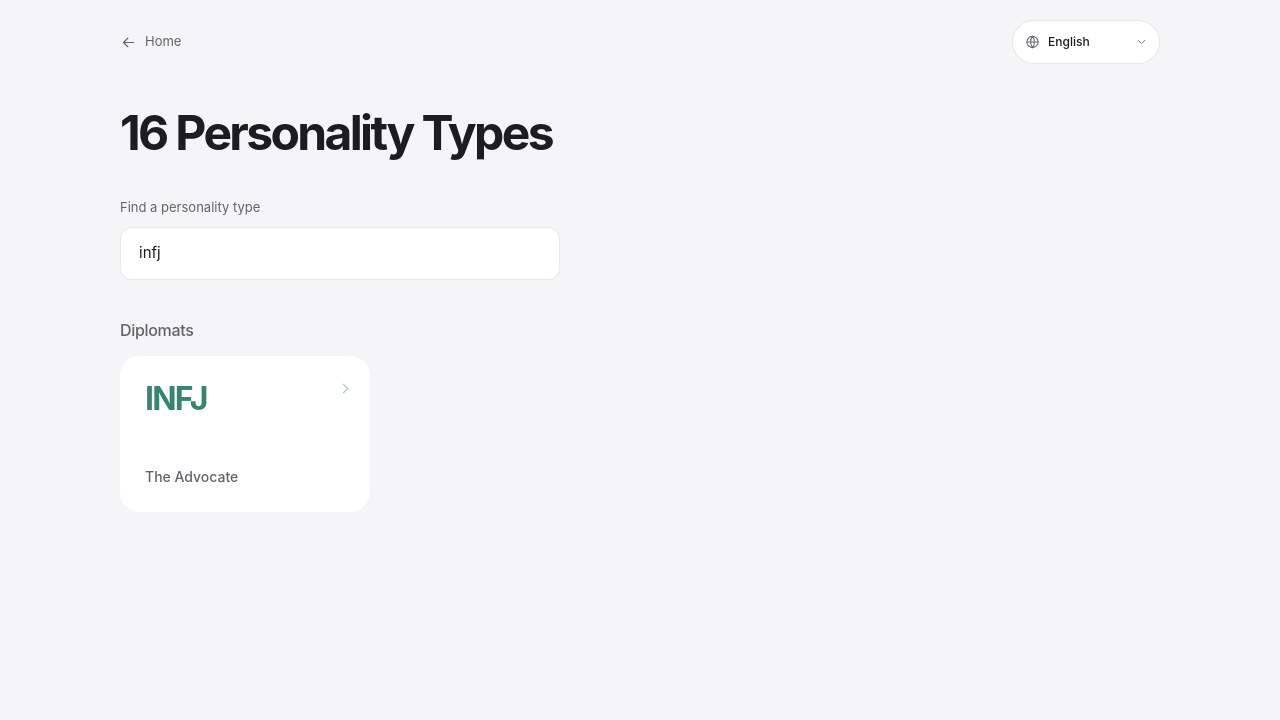
Test case: searches both languages and type codes and preserves search across detail/back/reload
Click the button with class "type-chip" at (245, 434), box [120,356,370,512]
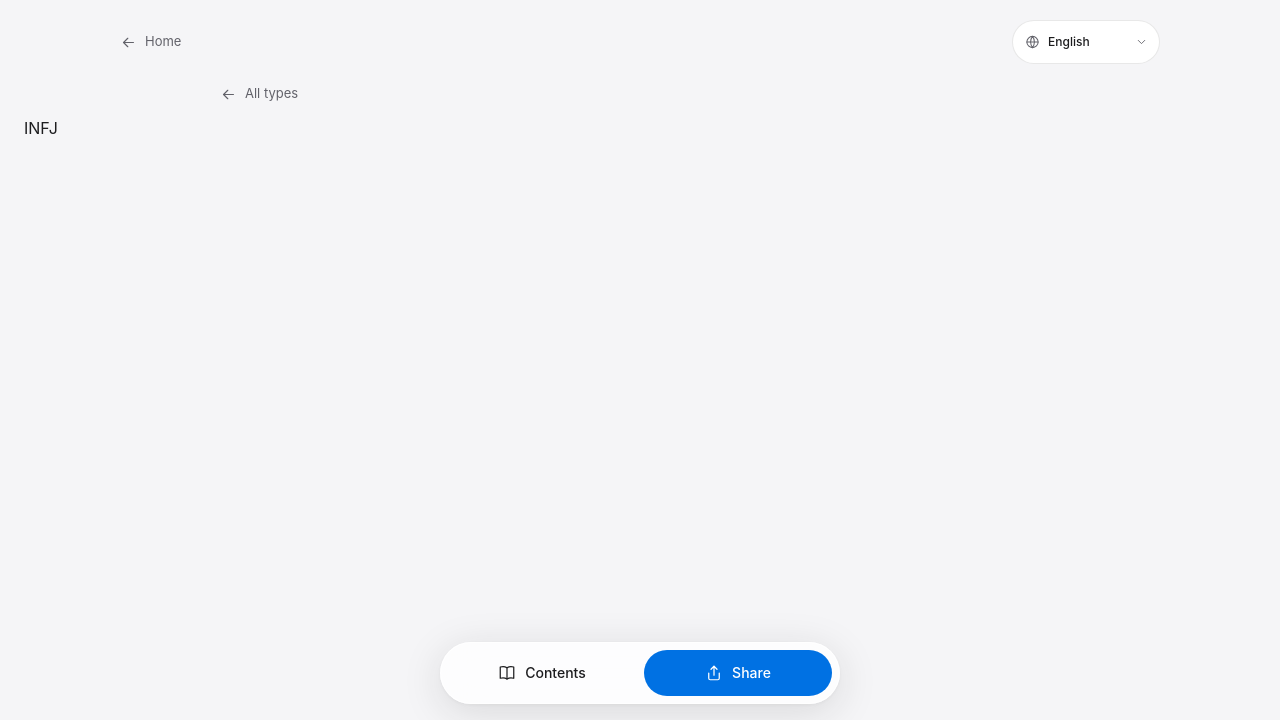
Click the button with class "detail-back" at (272, 93), box [220,72,1060,116]
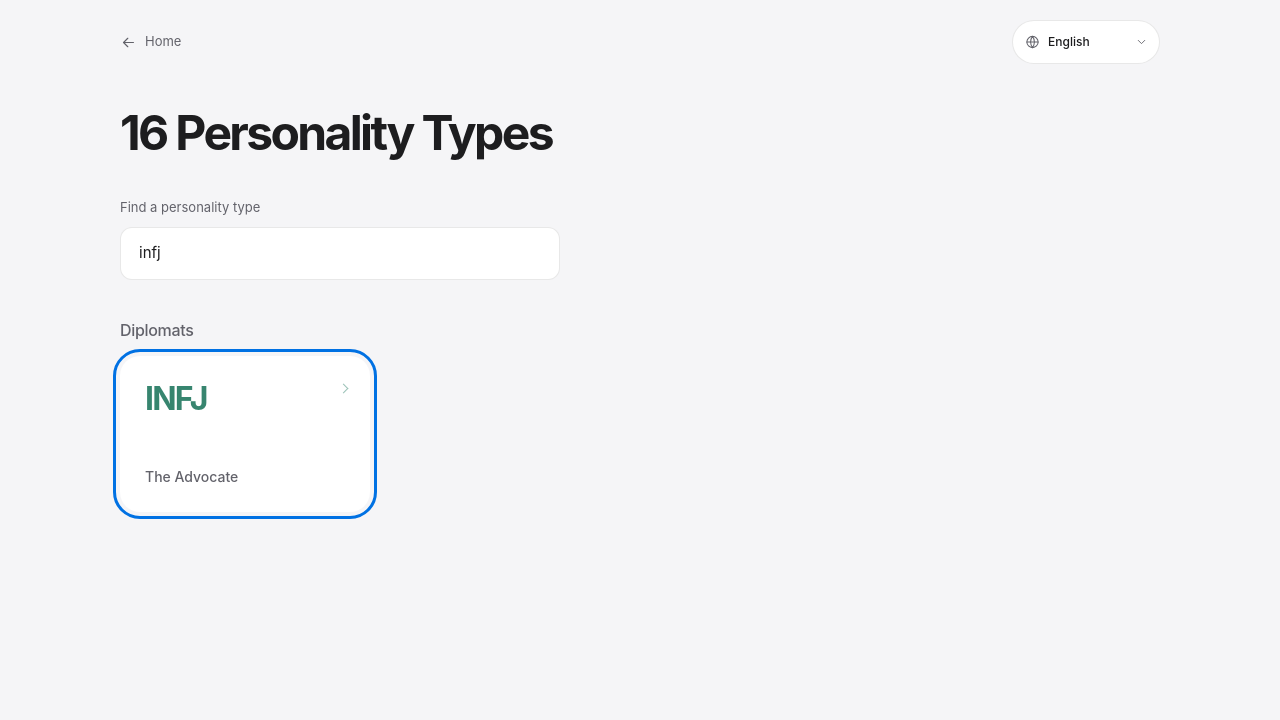
Expected: the search field labelled "Find a personality type" holds "infj"
Replace the text in the search field labelled "Find a personality type" with "倡导者" at (340, 253), box [120,227,560,280]
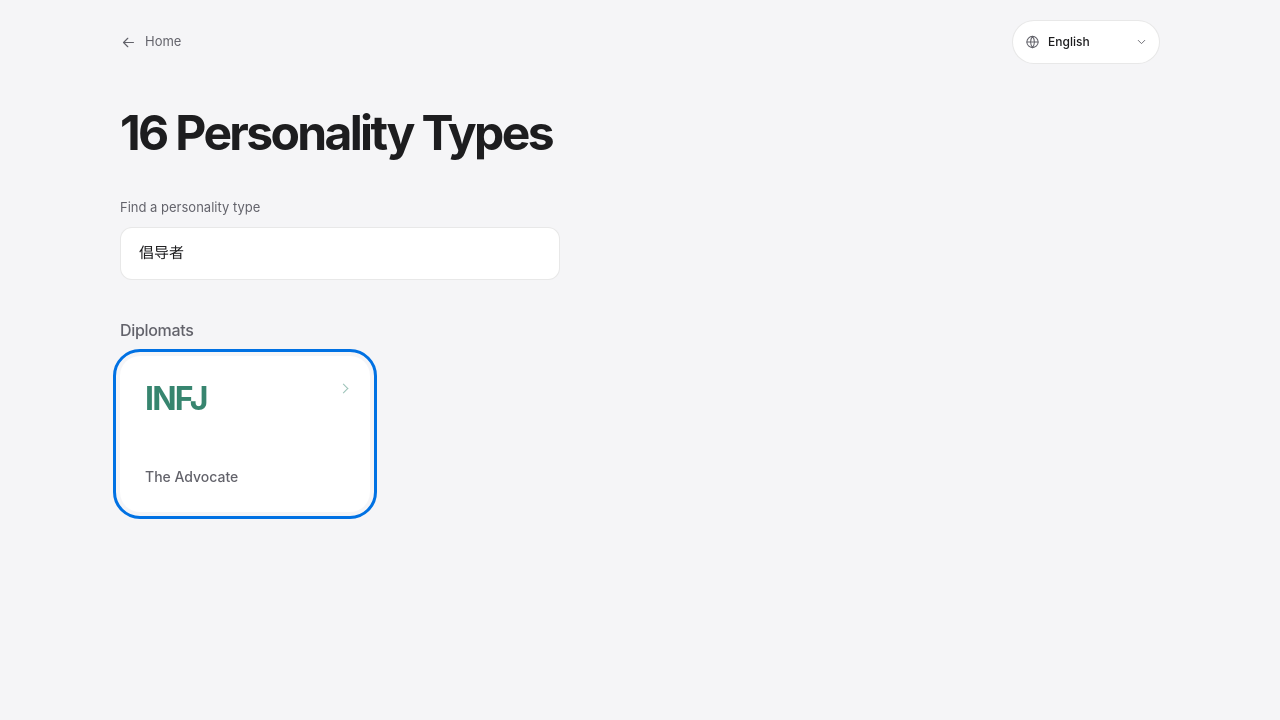
Expected: the number of buttons with class "type-chip" is 1, [120,356,370,512]
Replace the text in the search field labelled "Find a personality type" with "advocate" at (340, 253), box [120,227,560,280]
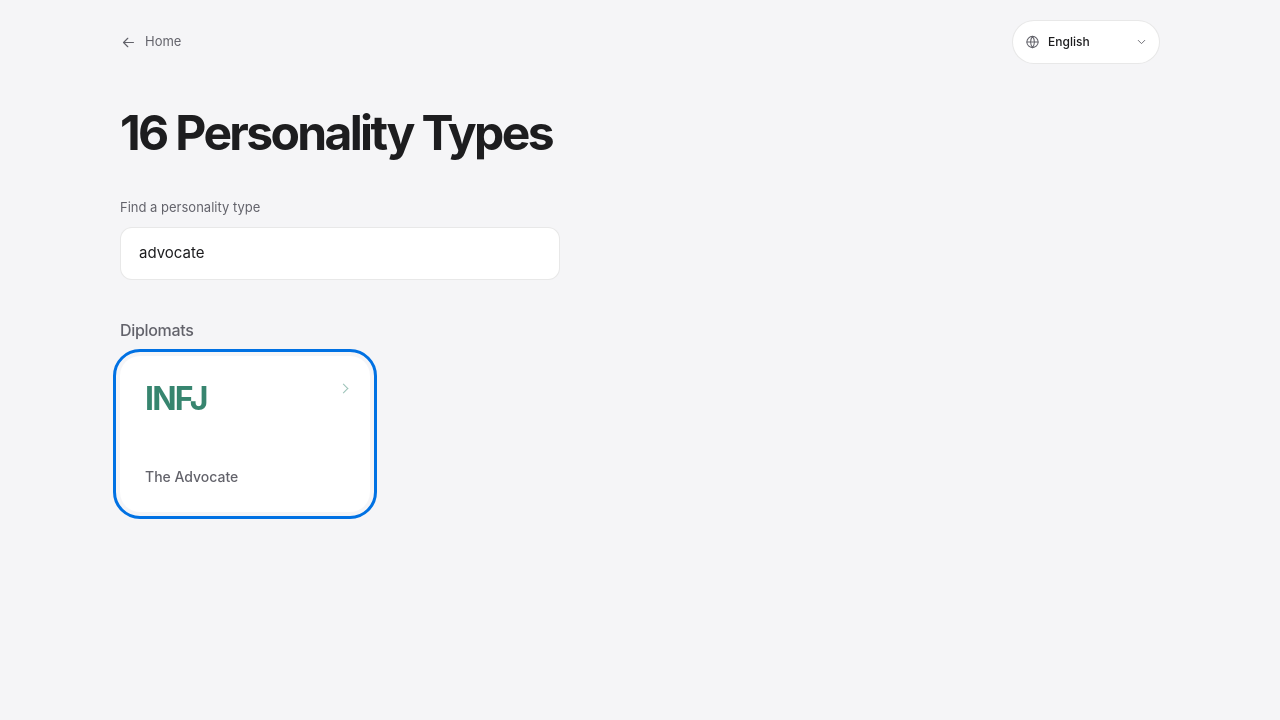
Expected: the number of buttons with class "type-chip" is 1, [120,356,370,512]
Replace the text in the search field labelled "Find a personality type" with "no such type" at (340, 253), box [120,227,560,280]
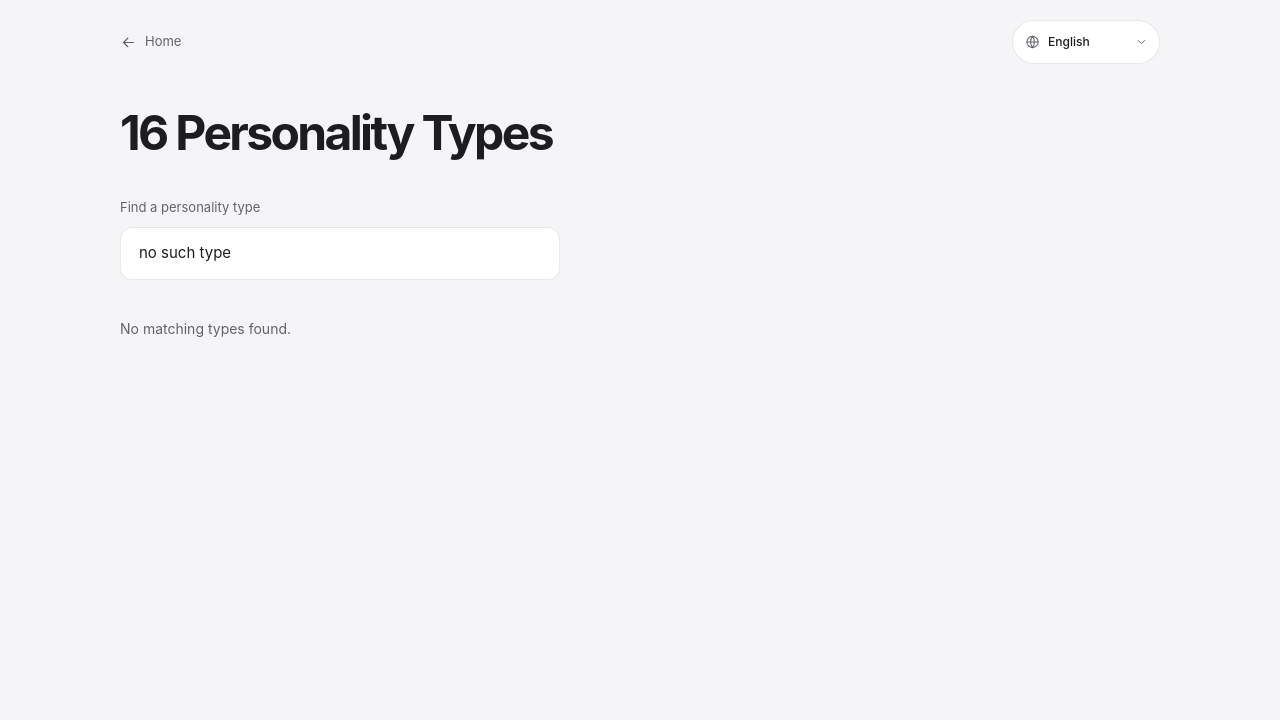
Expected: the message "No matching types found." is shown, [120,320,291,337]
